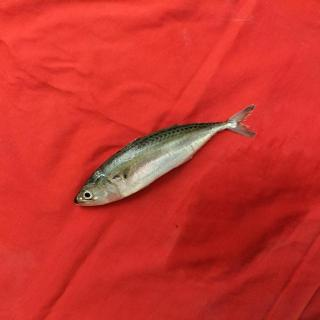Ikan: (68, 104, 264, 221)
